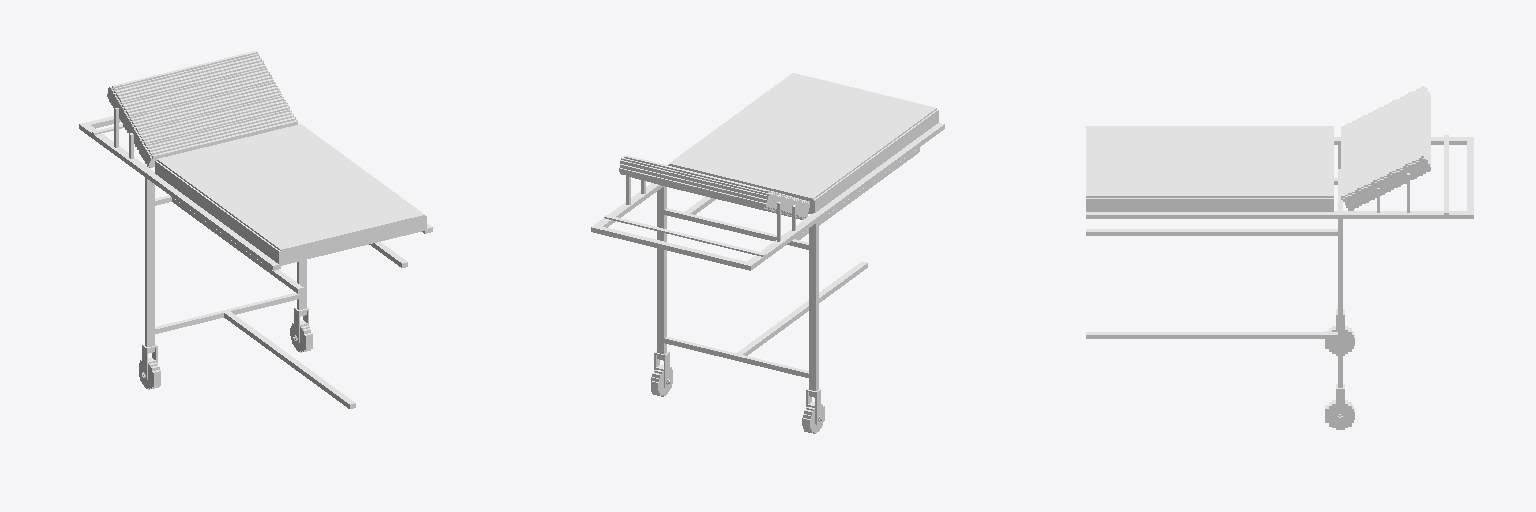
The model's file is MacaParteEsquerda.obj.
3 renders of one model, left to right at view 1: azimuth 30°, elevation 25°; view 2: azimuth 150°, elevation 25°; view 3: azimuth 270°, elevation 25°, orthographic.
Visible parts, largest first — view 1: object 1; view 2: object 1; view 3: object 1.
Part boxes in pixels (x1,y1,x2,y2): object 1: (79,51,432,408); object 1: (591,73,944,433); object 1: (1086,86,1473,429).
Bounding box in the file's own units: 11 × 16.8 × 21.9.